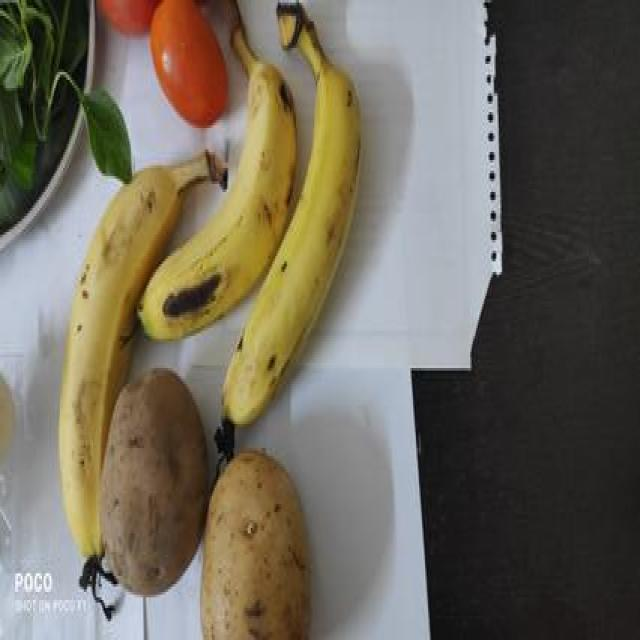Fresh_tomato: (132, 11, 235, 126)
